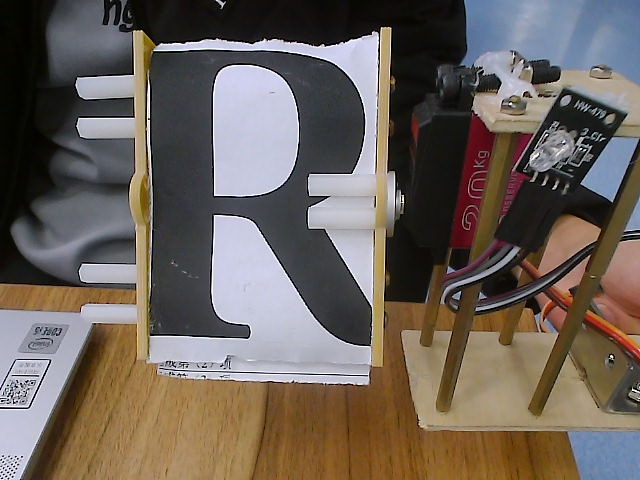R: (62, 15, 423, 408)
